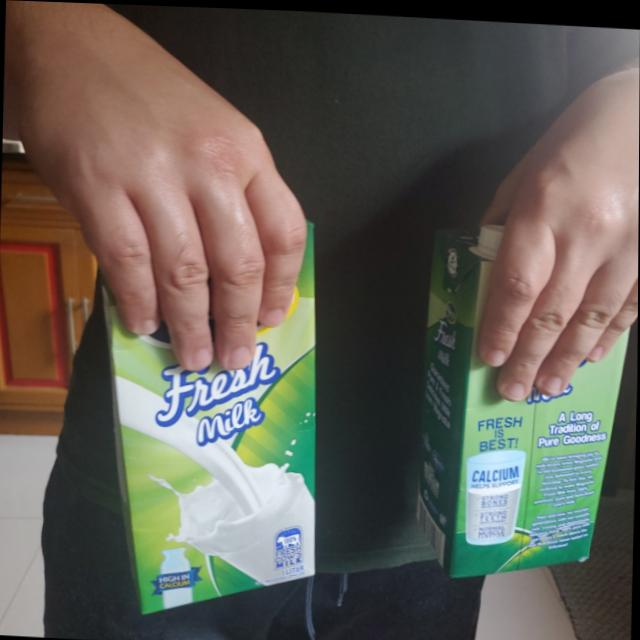milk: (96, 205, 328, 623), (419, 221, 637, 587)
